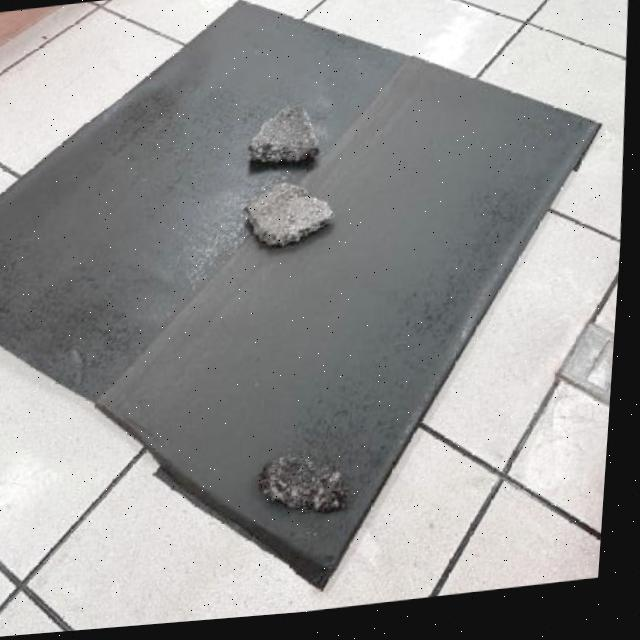Road Debris: (270, 457, 355, 516), (251, 107, 324, 167), (247, 186, 305, 245)
